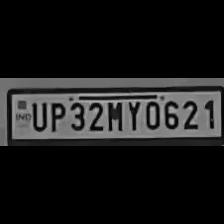0: (142, 98, 160, 130)
1: (200, 97, 218, 129)
2: (86, 98, 104, 132), (180, 97, 198, 130)
3: (65, 98, 84, 132)
6: (161, 97, 179, 129)
M: (104, 98, 124, 132)
P: (47, 100, 65, 132)
U: (28, 99, 46, 131)
Y: (124, 98, 142, 132)
